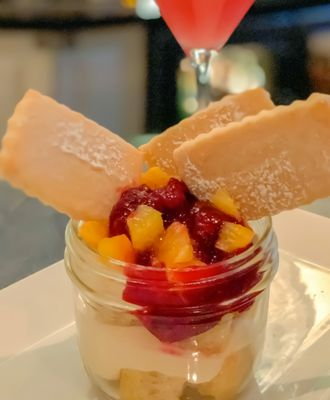pizza: (62, 214, 285, 400)
soup: (100, 87, 330, 270)
